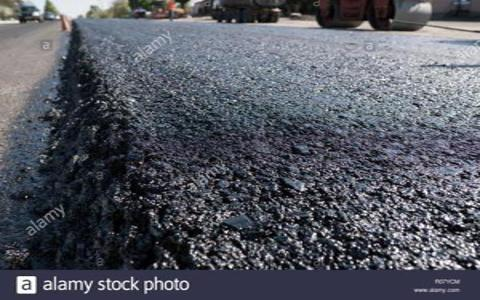Proper road: (131, 33, 394, 234)
